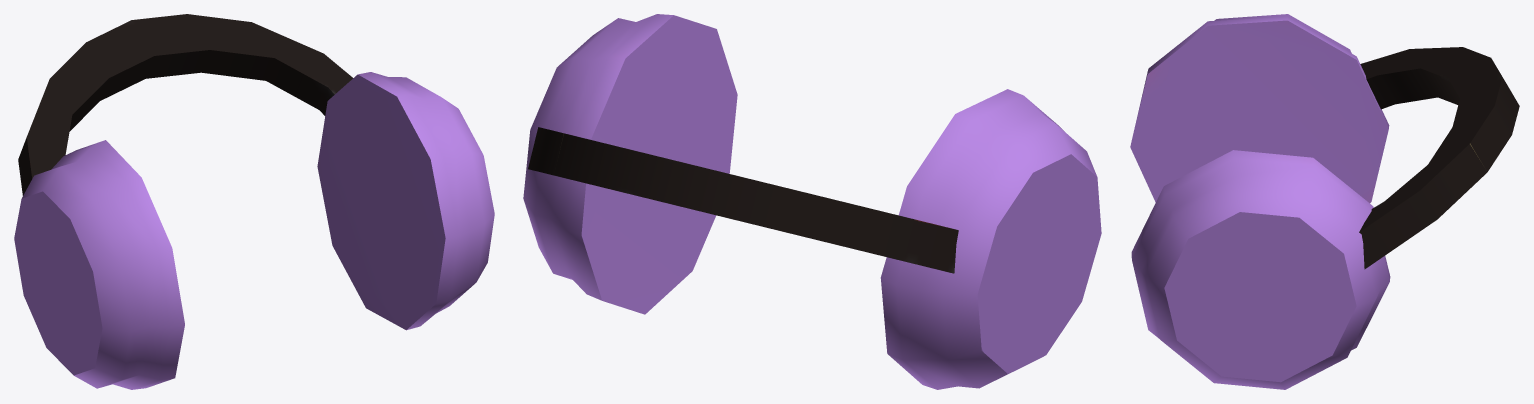
The model's file is headphones exp resend.fbx.
3 views of the same model, side by side, from view 1: azimuth 30°, elevation 25°; view 2: azimuth 150°, elevation 25°; view 3: azimuth 270°, elevation 25° (orthographic). The views are drawn at different scales.
Visible parts, largest first — view 1: Cylinder003; view 2: Cylinder003; view 3: Cylinder003.
Part boxes in pixels (bbox=[...]): Cylinder003: bbox=[14, 14, 494, 389]; Cylinder003: bbox=[523, 14, 1101, 389]; Cylinder003: bbox=[1130, 14, 1519, 389].
Size of the model in its own units: 6.48 by 3.76 by 5.54.
